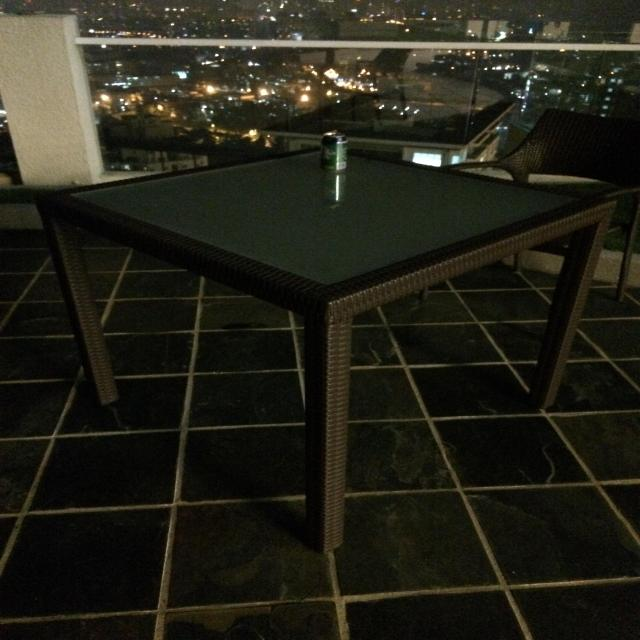Table: (27, 122, 610, 549)
